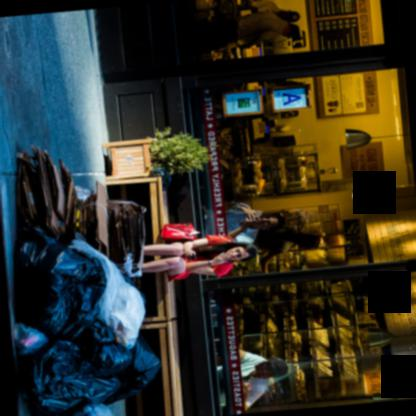handbag: (159, 223, 199, 243)
